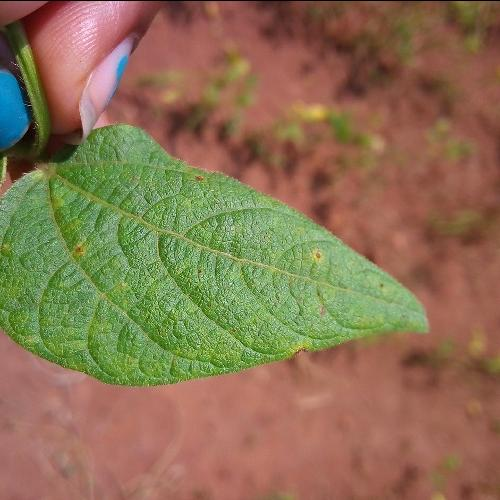embun tepung: (285, 239, 327, 298), (69, 216, 104, 286), (161, 163, 213, 210)
